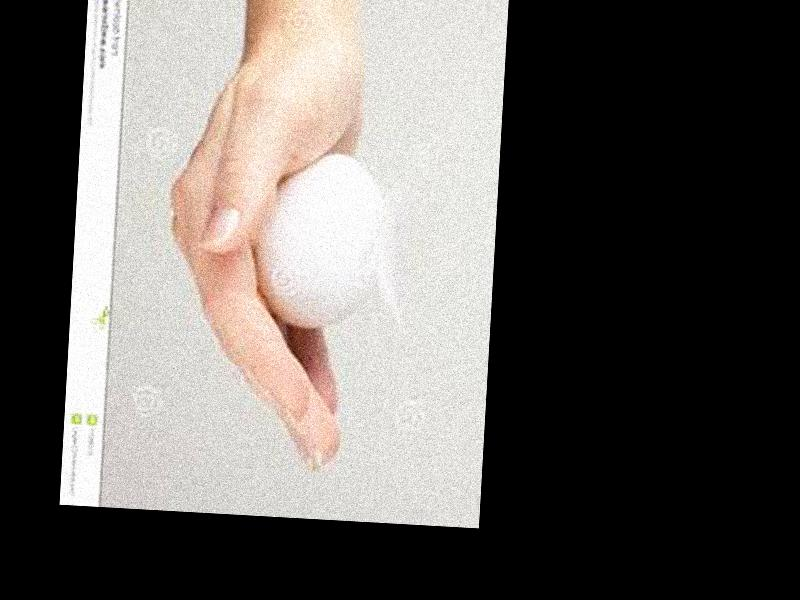Eggs: (252, 148, 384, 334)
